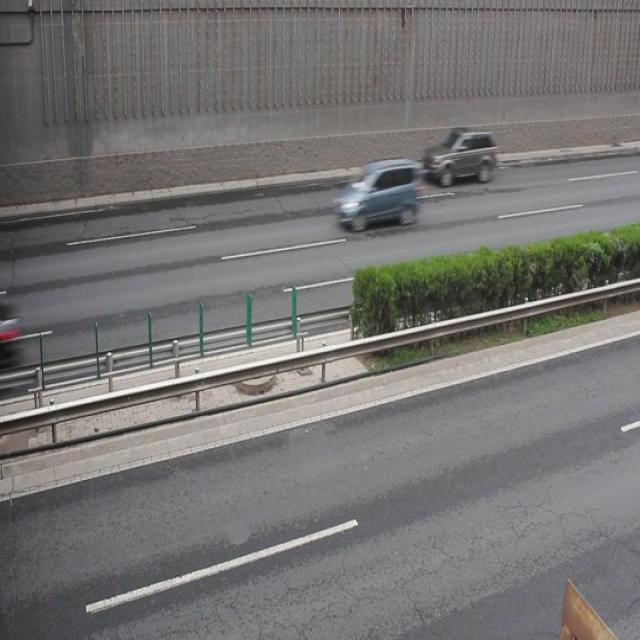car: (336, 158, 418, 231), (423, 126, 496, 186)
